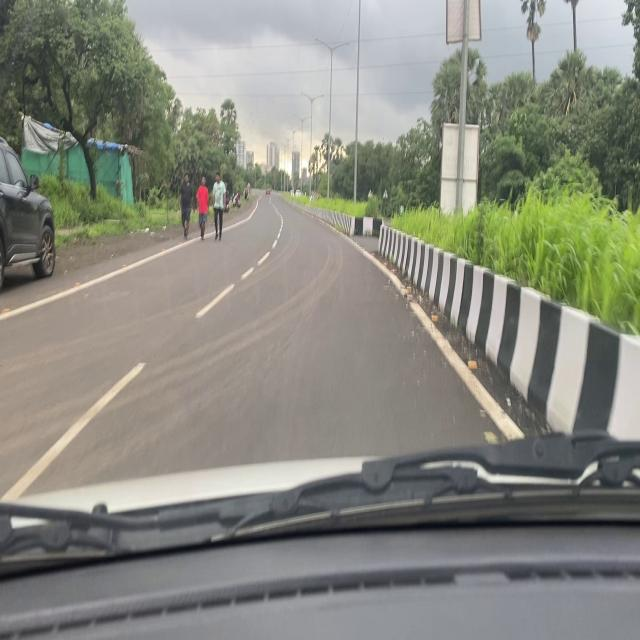lane: (1, 225, 289, 506), (327, 212, 518, 441), (1, 204, 270, 326)
